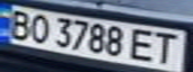3: (48, 16, 72, 50)
7: (66, 17, 90, 52)
8: (103, 24, 130, 57), (87, 20, 109, 55)
B: (3, 7, 36, 40)
E: (127, 26, 163, 63)
O: (24, 11, 54, 44)
T: (148, 29, 184, 65)
